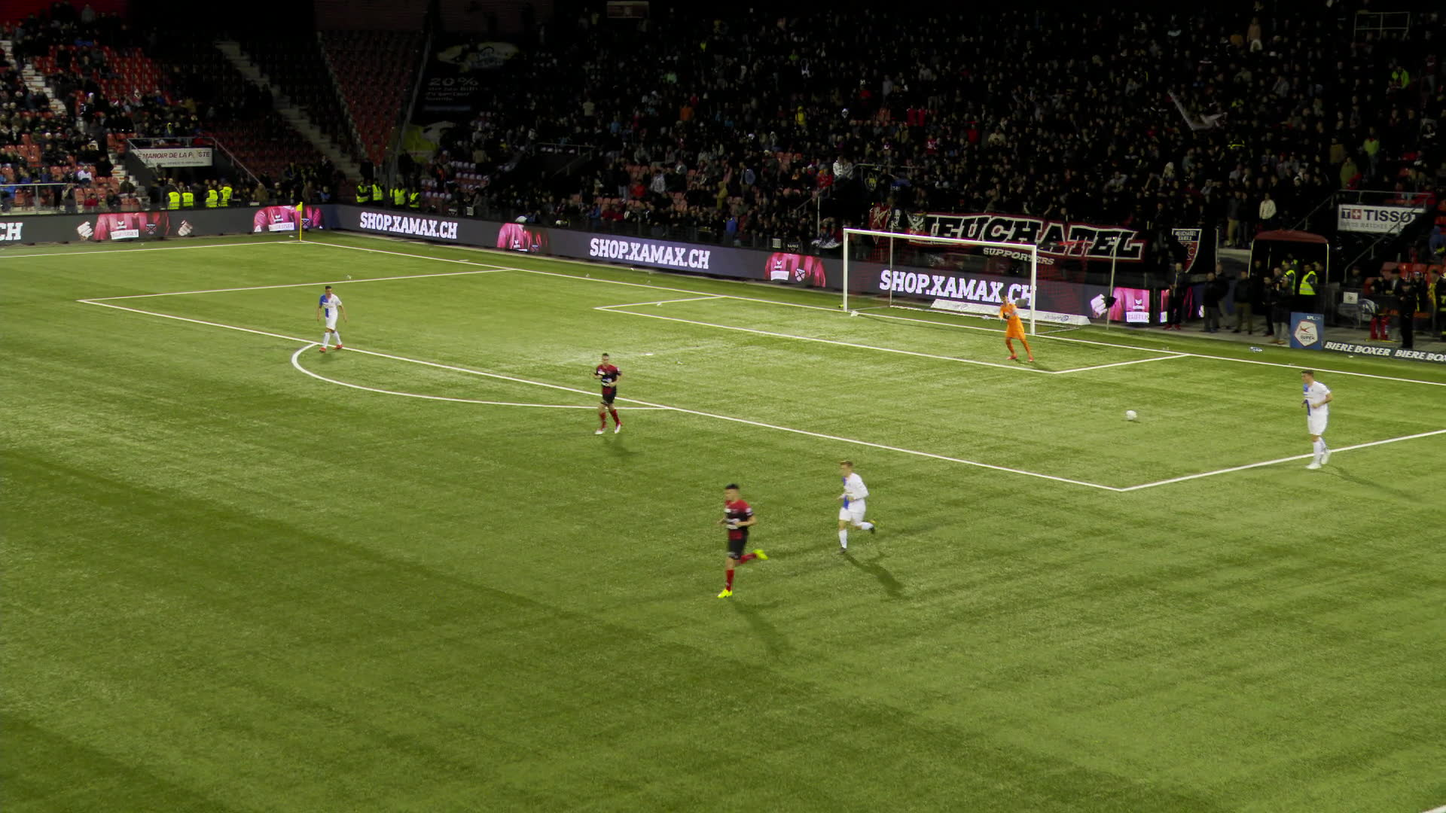ball: (1123, 409, 1131, 416)
player: (718, 480, 770, 595), (835, 461, 878, 553), (1301, 372, 1338, 469), (591, 355, 628, 437), (999, 294, 1030, 363), (317, 285, 345, 353)
